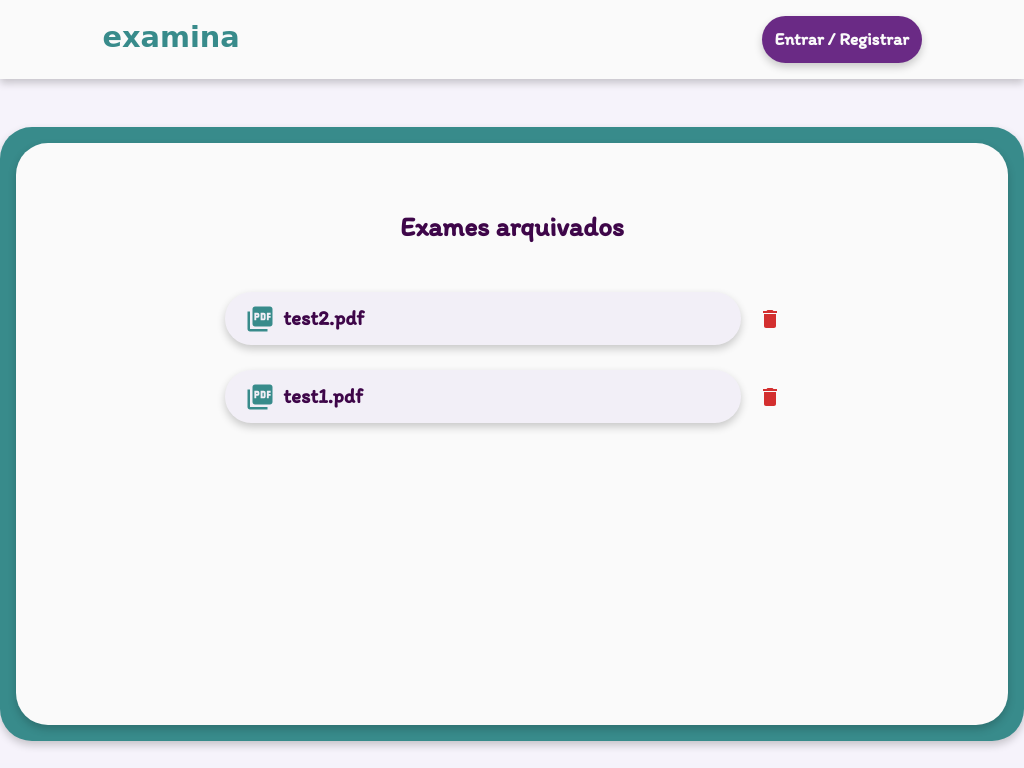
Uploads Page Tests › Should handle PDF deletion
Click the 3rd button at (770, 319), box [741,299,798,339]
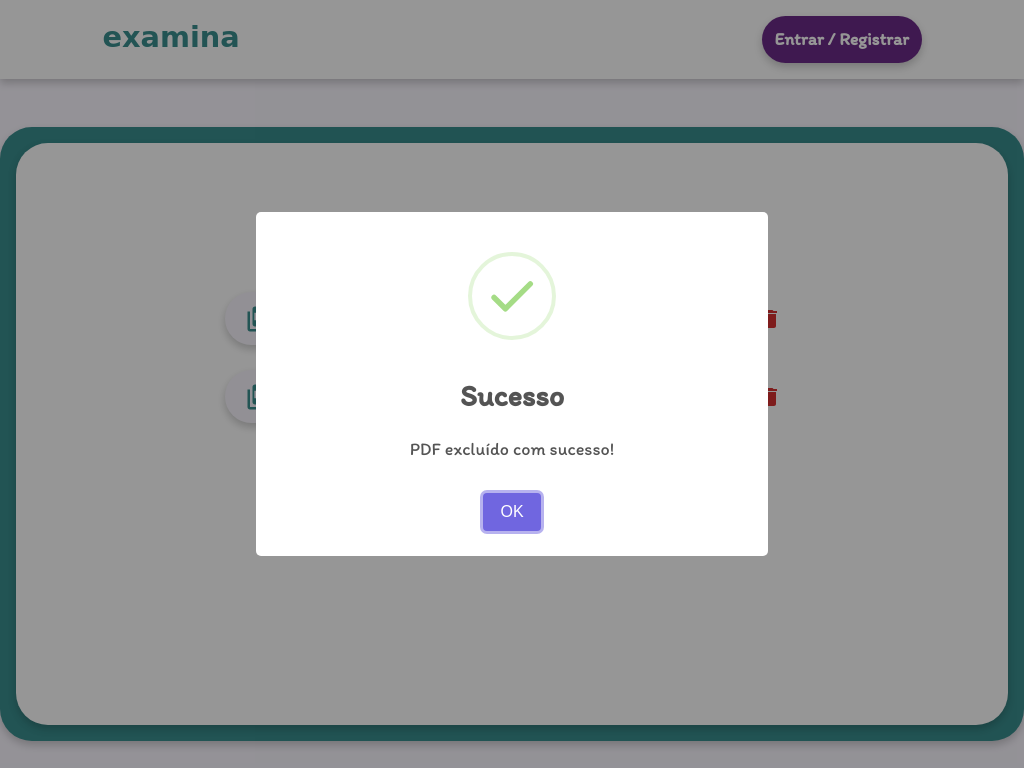
Now the text with class "swal2-html-container" reads "PDF excluído com sucesso!", box [410,438,614,460]
